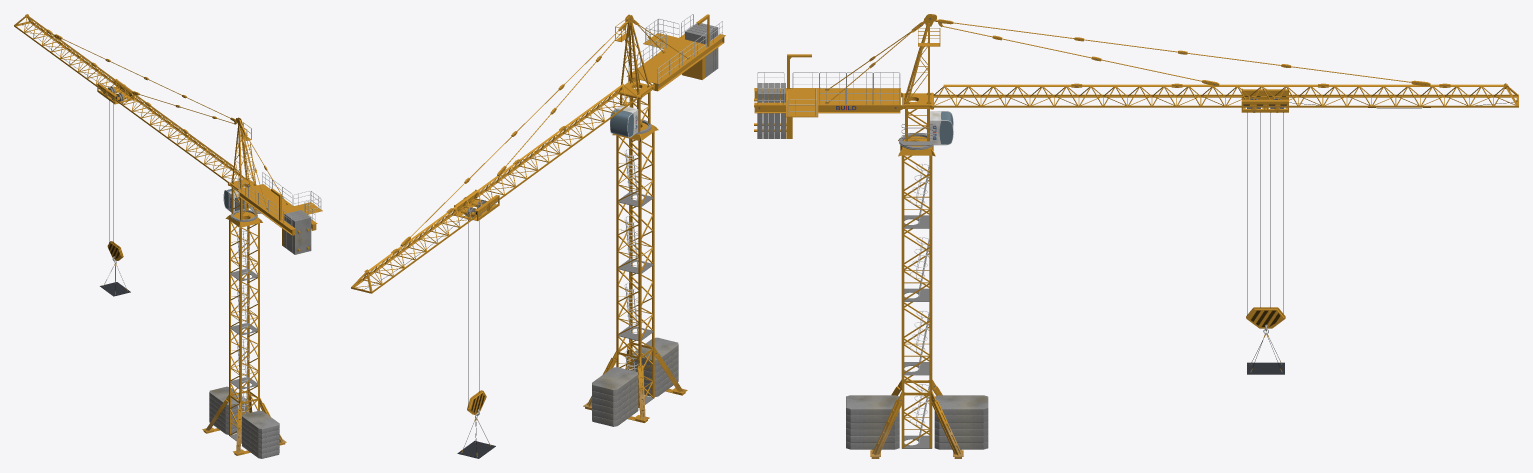
3 renders of one model, left to right at view 1: azimuth 30°, elevation 25°; view 2: azimuth 150°, elevation 25°; view 3: azimuth 270°, elevation 25°, orthographic. The views are drawn at different scales.
Parts seen in each view (by area): view 1: plateforme-haut, corps-haut-3, corps-haut-1, corps-haut-2, corps-top, poulie, haut-jaune, Box151, Box416, cables-haut, L-Ext044, L-Ext045 (+9 smaller); view 2: plateforme-haut, corps-haut-3, corps-haut-1, corps-haut-2, corps-top, poulie, Box422, haut-jaune, L-Ext044, L-Ext045, plateforme, L-Ext046 (+10 smaller); view 3: corps-haut-3, plateforme-haut, corps-haut-1, corps-haut-2, poulie, cables-haut, haut-jaune, plateforme, Box422, Box416, corps-top, attaches-haut (+1 smaller).
Boxes of the visible parts, x1=… form: plateforme-haut: x1=237, y1=184, x2=322, y2=229; corps-haut-3: x1=14, y1=16, x2=174, y2=131; corps-haut-1: x1=158, y1=120, x2=245, y2=182; corps-haut-2: x1=14, y1=15, x2=102, y2=78; corps-top: x1=231, y1=124, x2=256, y2=219; poulie: x1=22, y1=23, x2=134, y2=242; haut-jaune: x1=225, y1=122, x2=262, y2=228; Box151: x1=293, y1=216, x2=311, y2=254; Box416: x1=242, y1=410, x2=279, y2=433; cables-haut: x1=61, y1=38, x2=286, y2=206; L-Ext044: x1=229, y1=327, x2=259, y2=389; L-Ext045: x1=229, y1=273, x2=259, y2=335; plateforme-haut: x1=626, y1=14, x2=725, y2=84; corps-haut-3: x1=351, y1=141, x2=549, y2=293; corps-haut-1: x1=529, y1=83, x2=637, y2=162; corps-haut-2: x1=354, y1=214, x2=460, y2=293; corps-top: x1=620, y1=20, x2=650, y2=131; poulie: x1=362, y1=189, x2=499, y2=407; Box422: x1=592, y1=367, x2=638, y2=395; haut-jaune: x1=612, y1=19, x2=658, y2=142; L-Ext044: x1=616, y1=263, x2=654, y2=341; L-Ext045: x1=616, y1=196, x2=654, y2=274; plateforme: x1=628, y1=37, x2=724, y2=91; L-Ext046: x1=616, y1=131, x2=654, y2=207; corps-haut-3: x1=1116, y1=84, x2=1518, y2=107; plateforme-haut: x1=754, y1=54, x2=900, y2=117; corps-haut-1: x1=933, y1=84, x2=1128, y2=107; corps-haut-2: x1=1322, y1=84, x2=1518, y2=107; poulie: x1=1241, y1=88, x2=1517, y2=314; cables-haut: x1=828, y1=22, x2=1411, y2=102; haut-jaune: x1=898, y1=28, x2=940, y2=156; plateforme: x1=754, y1=91, x2=900, y2=138; Box422: x1=934, y1=395, x2=988, y2=415; Box416: x1=846, y1=395, x2=899, y2=415; corps-top: x1=905, y1=22, x2=933, y2=145; attaches-haut: x1=869, y1=14, x2=1508, y2=88.
Bounding box in the file's own units: 225 × 1230 × 1990.
24 materials, 24 textured.
